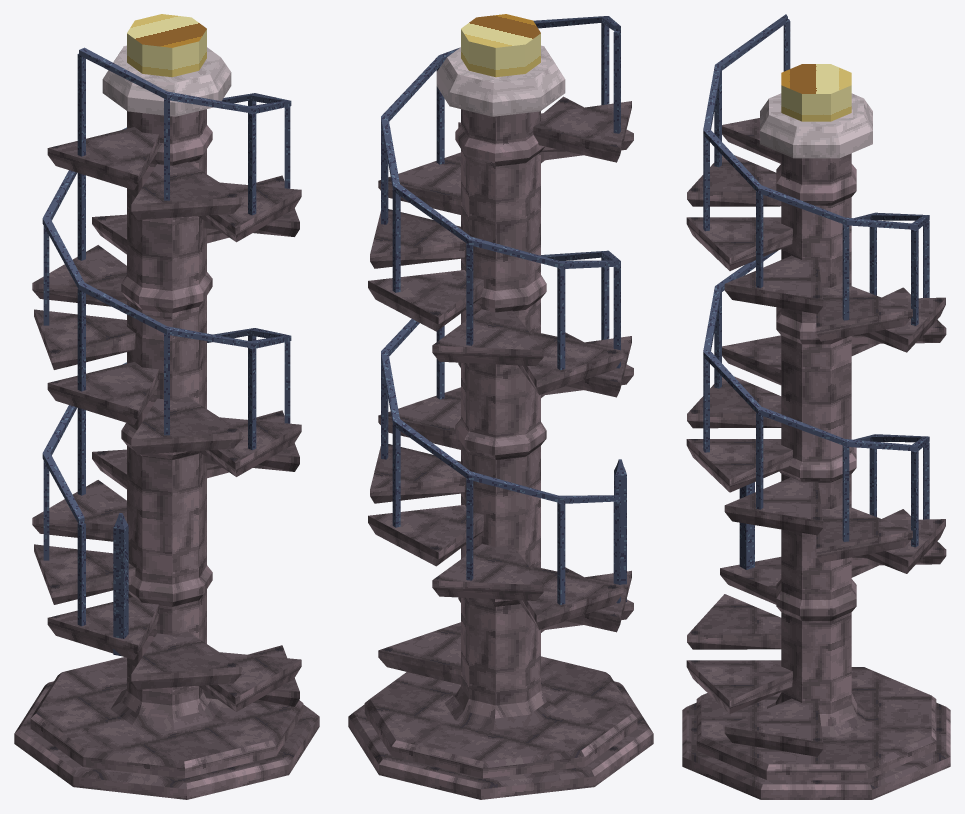
The model's file is entwurf_b.glb.
The picture shows the model from 3 angles, left to right: view 1: azimuth 30°, elevation 25°; view 2: azimuth 150°, elevation 25°; view 3: azimuth 270°, elevation 25°; orthographic projection. The views are drawn at different scales.
Parts seen in each view (by area): view 1: stairs, glow; view 2: stairs, glow; view 3: stairs, glow.
Part boxes in pixels (box(x1,y1,x2,y2)): stairs: box(14, 45, 319, 799); glow: box(127, 14, 206, 77); stairs: box(348, 16, 653, 799); glow: box(461, 14, 540, 77); stairs: box(682, 14, 950, 799); glow: box(781, 64, 851, 121).
Size of the model in its own units: 2.19 by 6.16 by 2.19.
1 material, 1 textured.
